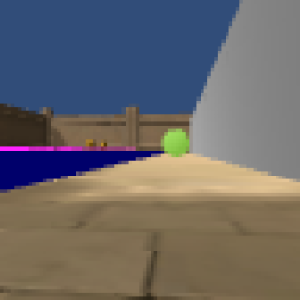goodGoal: (162, 126, 189, 158)
goodGoalMulti: (85, 138, 97, 149), (101, 139, 108, 148)
platform: (2, 151, 161, 195)
ramp: (1, 144, 85, 151)
wall: (185, 2, 300, 182)
